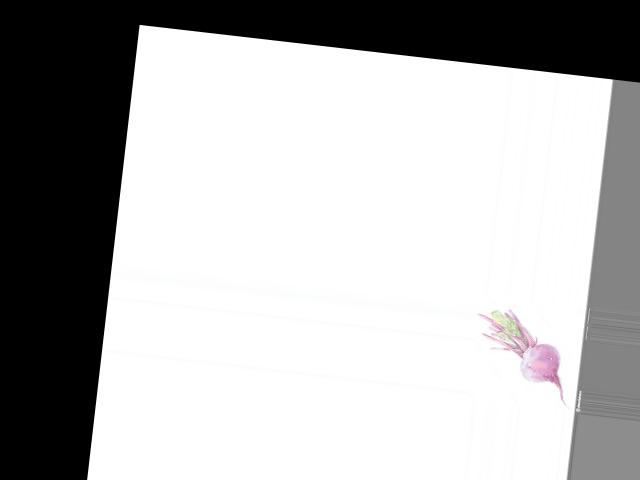beet: (467, 305, 580, 408)
